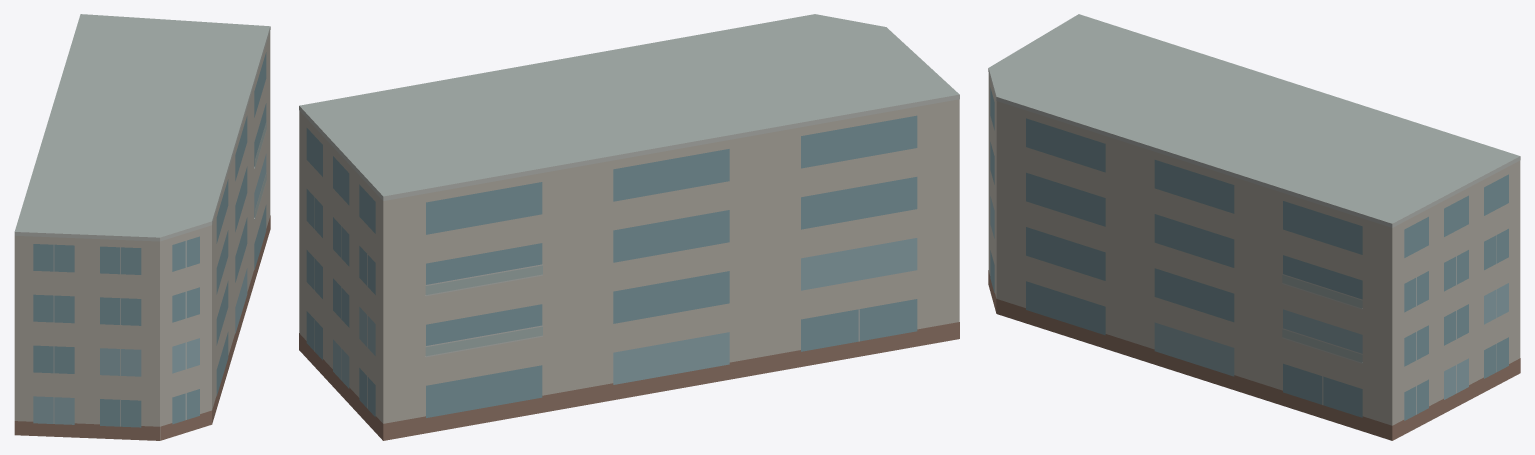
Rendered from survey-upis-32887072.glb.
The picture shows the model from 3 angles, left to right: view 1: azimuth 30°, elevation 25°; view 2: azimuth 150°, elevation 25°; view 3: azimuth 270°, elevation 25°; orthographic projection. The views are drawn at different scales.
Visible parts, largest first — view 1: survey-upis-32887072.tmp; view 2: survey-upis-32887072.tmp; view 3: survey-upis-32887072.tmp.
Part boxes in pixels (x1,y1,x2,y2): survey-upis-32887072.tmp: (14,14,270,440); survey-upis-32887072.tmp: (299,14,959,440); survey-upis-32887072.tmp: (988,14,1520,440).
Size of the model in its own units: 26.54 by 12.8 by 28.43.
